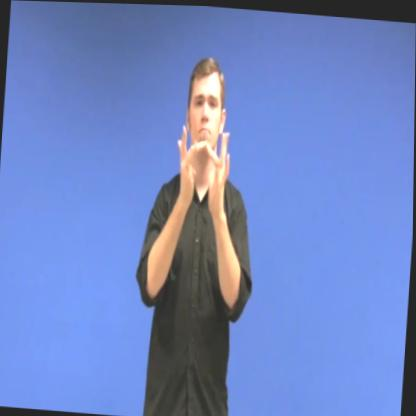Internet: (166, 103, 235, 224)
